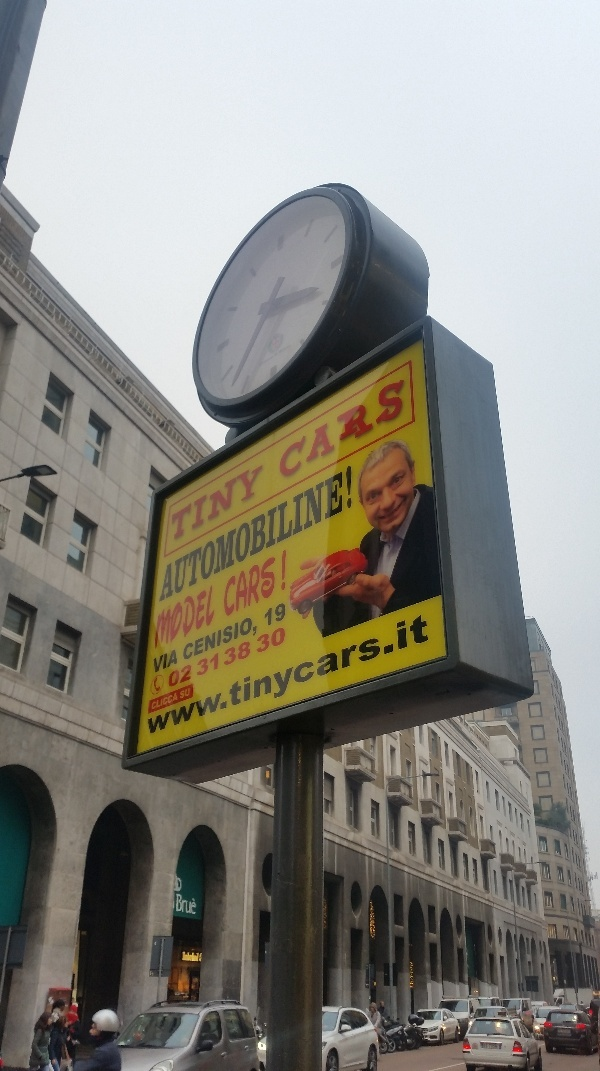text: (337, 465, 353, 602), (161, 603, 176, 743), (177, 603, 192, 743), (193, 603, 208, 743), (209, 603, 224, 743), (225, 603, 240, 743), (241, 603, 256, 743), (257, 603, 272, 743), (273, 603, 288, 743), (289, 603, 304, 743), (305, 603, 320, 743), (321, 603, 336, 743), (337, 603, 352, 743), (353, 603, 368, 743), (369, 603, 384, 743), (385, 603, 400, 743), (401, 603, 416, 743), (177, 465, 192, 602), (193, 465, 208, 602), (209, 465, 224, 602), (225, 465, 240, 602), (241, 465, 256, 602), (257, 465, 272, 602), (273, 465, 288, 602), (289, 465, 304, 602), (305, 465, 320, 602), (321, 465, 336, 602), (147, 603, 160, 743), (289, 376, 304, 480), (305, 376, 320, 480), (321, 376, 336, 480), (337, 376, 352, 480), (353, 376, 368, 480), (369, 376, 384, 480), (385, 376, 400, 480), (417, 603, 428, 743), (167, 465, 176, 602), (177, 461, 192, 543), (193, 461, 208, 543), (209, 461, 224, 543), (225, 461, 240, 543), (241, 461, 256, 543), (161, 584, 176, 651), (177, 584, 192, 651), (193, 584, 208, 651), (241, 556, 256, 617), (257, 556, 272, 617), (226, 556, 240, 617), (193, 612, 208, 664), (209, 612, 224, 664), (225, 612, 240, 664), (241, 612, 256, 664), (282, 376, 288, 480), (209, 584, 217, 651), (257, 461, 263, 543), (257, 627, 272, 655), (225, 640, 240, 668), (401, 376, 405, 480), (184, 612, 192, 664), (161, 650, 176, 674), (177, 664, 192, 688), (273, 602, 286, 628), (273, 627, 285, 655), (172, 461, 176, 543), (177, 894, 192, 915), (161, 693, 176, 710), (241, 640, 250, 668), (198, 653, 208, 677), (209, 653, 219, 677), (283, 549, 288, 592), (273, 556, 276, 617), (265, 602, 272, 628), (153, 650, 160, 674), (180, 688, 192, 700), (170, 664, 176, 688), (152, 693, 160, 710), (158, 584, 160, 651), (183, 952, 192, 962), (177, 875, 182, 892), (193, 894, 197, 915), (484, 1043, 496, 1049), (193, 952, 199, 962), (257, 612, 258, 664), (561, 1030, 570, 1035), (177, 650, 178, 674), (177, 693, 178, 710), (497, 1043, 499, 1049), (559, 1030, 560, 1035)
